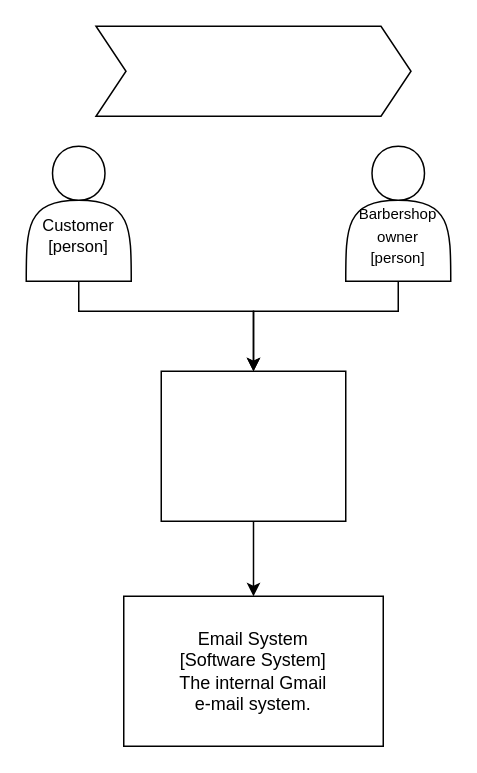
The diagram is 477 pixels wide and 773 high, and some of its shapes have lost their labels. Each missing label, with the box of its shape:
BarberBlend Application [Software System]: (160, 370, 346, 521)
Level 1: (94, 25, 411, 116)
